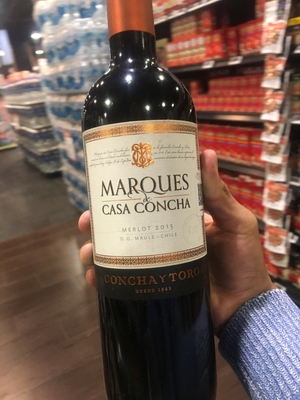marques de casa concha merlot: (76, 17, 229, 370)
